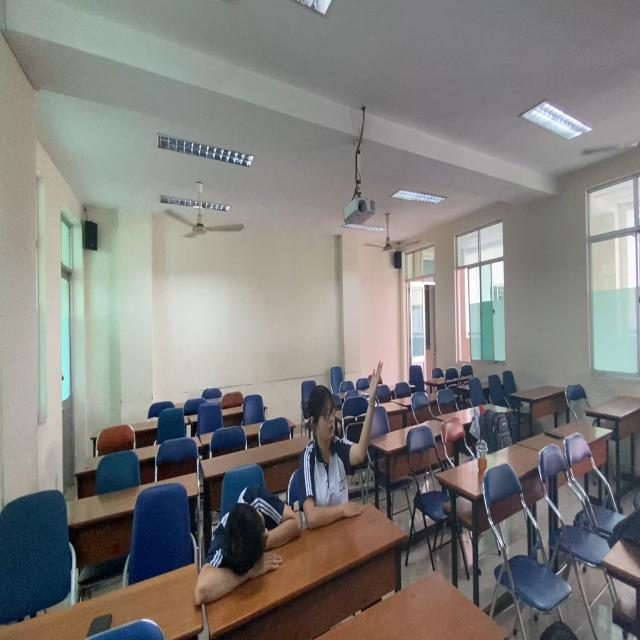raise_hand: (295, 356, 390, 536)
sleep: (181, 487, 311, 616)
